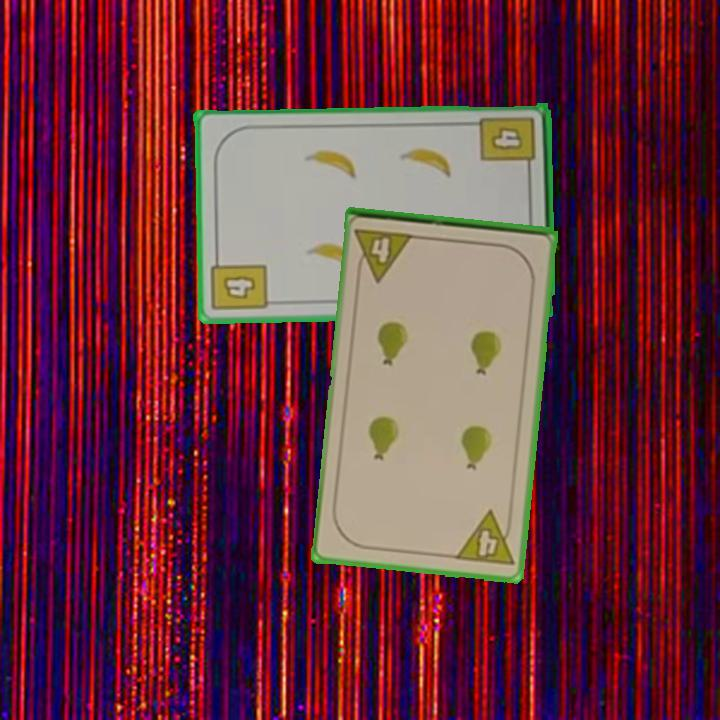4b: (208, 250, 270, 314), (477, 113, 539, 176)
4p: (451, 507, 517, 570), (351, 225, 417, 284)
